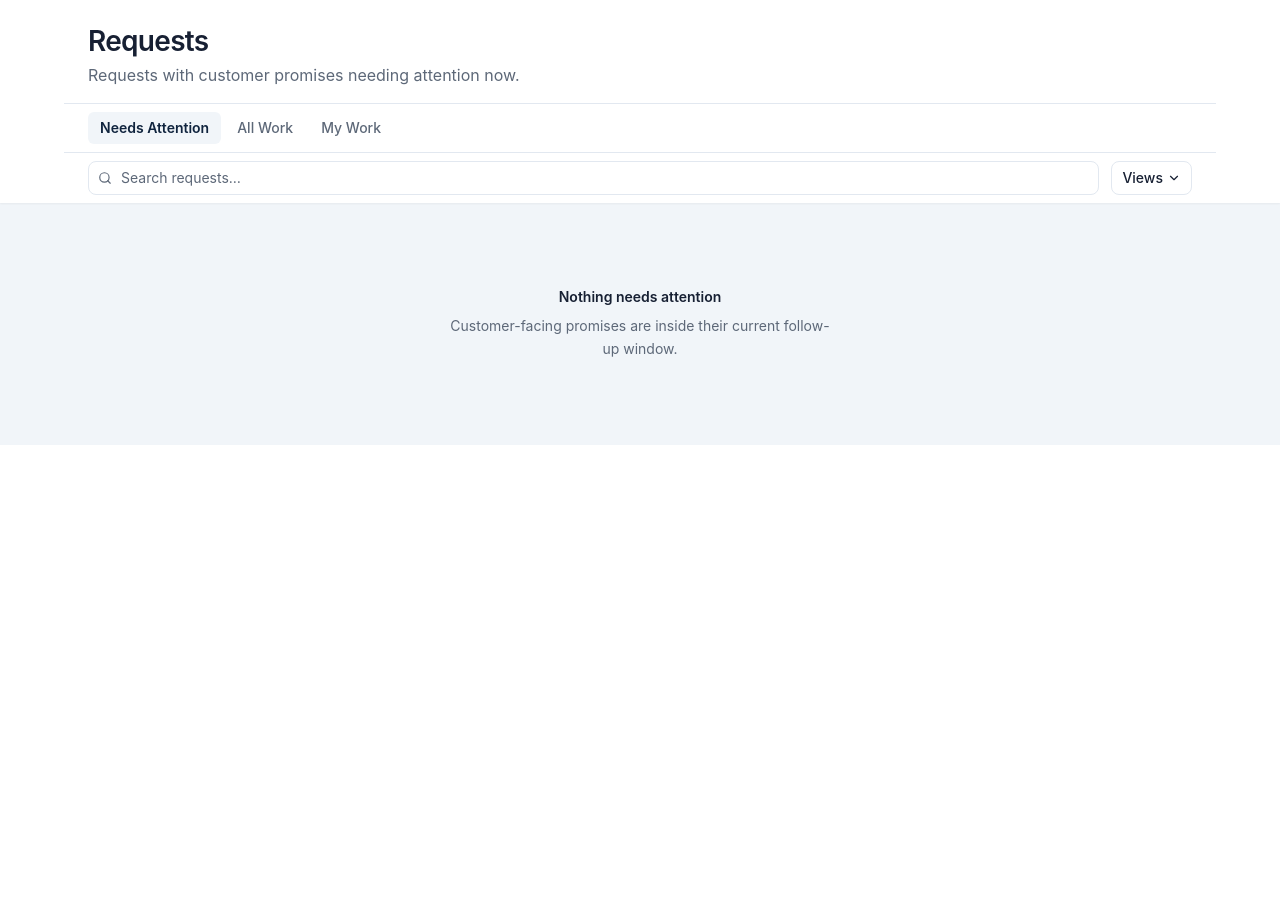
Test case: Requests — GAP-044 history entry point › enters history mode on all_history/All time by default, with the demoted heading and search placeholder
This screenshot has width=1280, height=900.
Click the button "Views": (1152, 178) [1111, 161, 1192, 195]
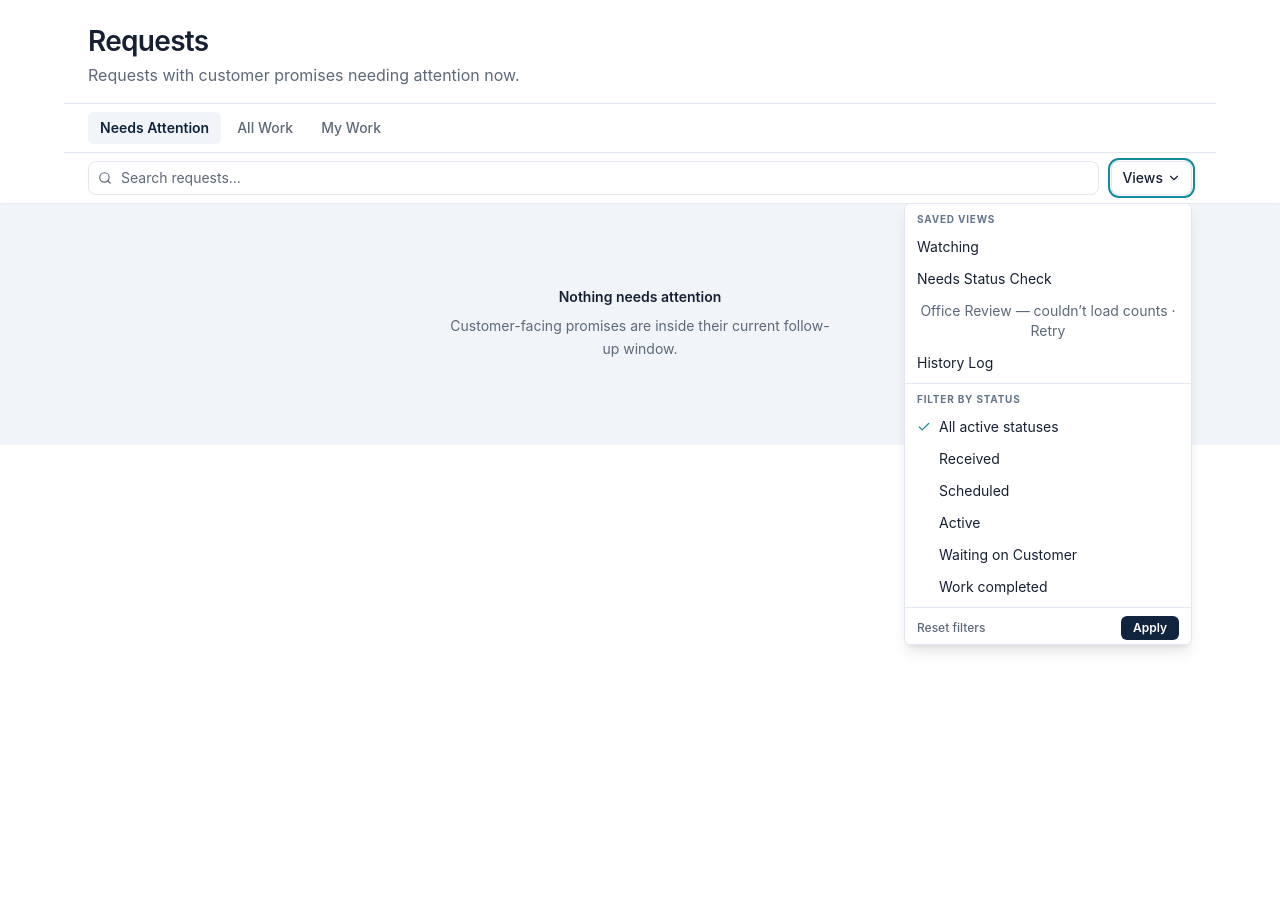
Click the button "History Log": (955, 362) [905, 347, 1191, 379]
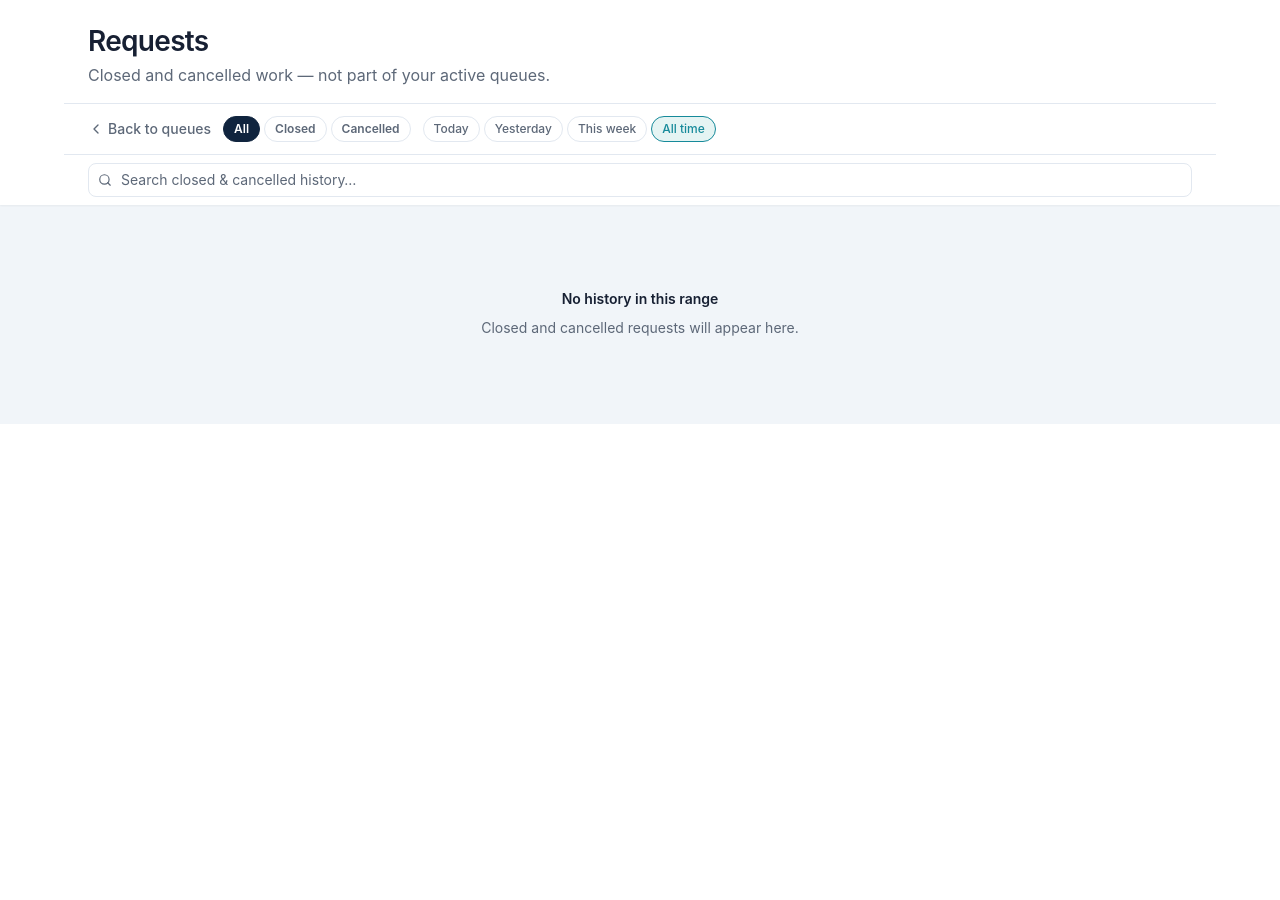
Result: the text "Closed and cancelled work — not part of your active queues." is shown at [88, 65, 550, 85]
Result: the button "Views" is gone
